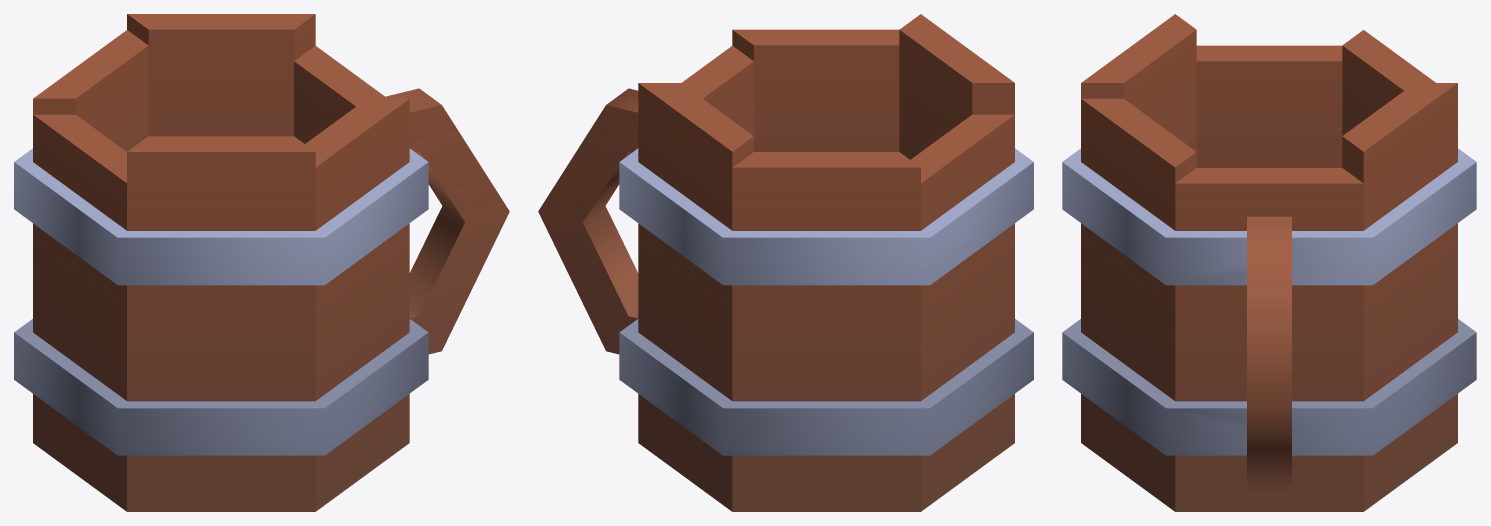
Rendered from cocoa.glb.
3 views of the same model, side by side, from view 1: azimuth 30°, elevation 25°; view 2: azimuth 150°, elevation 25°; view 3: azimuth 270°, elevation 25° (orthographic).
Parts seen in each view (by area): view 1: dish; view 2: dish; view 3: dish.
Part boxes in pixels (x1,y1,x2,y2): dish: (14, 14, 509, 511); dish: (538, 14, 1033, 511); dish: (1062, 14, 1476, 511).
Bounding box in the file's own units: 0.1038 × 0.0825 × 0.0861.
Materials: 1 (1 with a texture image).
